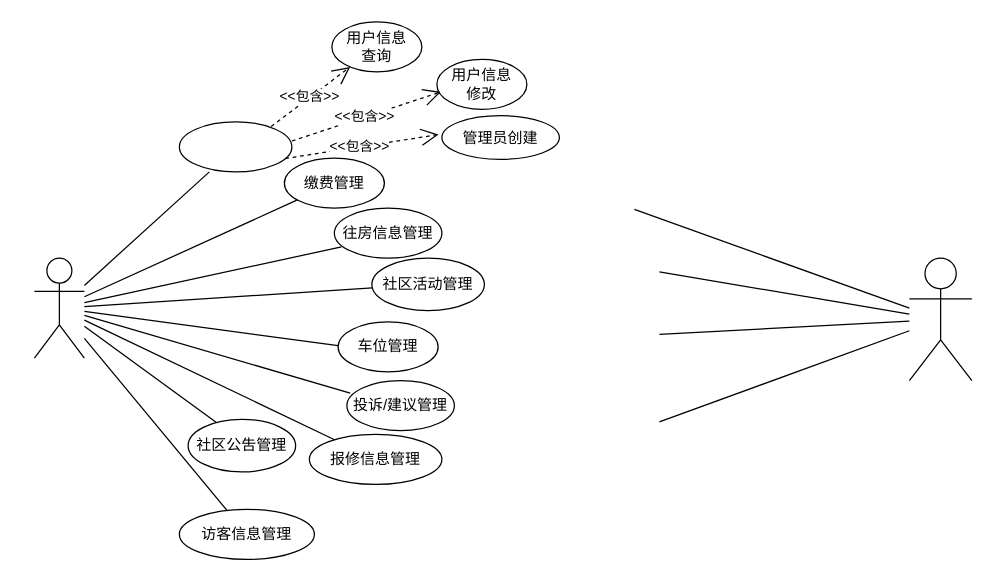
Image size: 994x581. Some labels were removed from this diagram. Here are the shapes that lost their labels. From the top down, the centre of each, then its label:
At pixel 235 146: "用户信息管理".
At pixel 58 307: "物业管理员".
At pixel 940 319: "业主用户".
